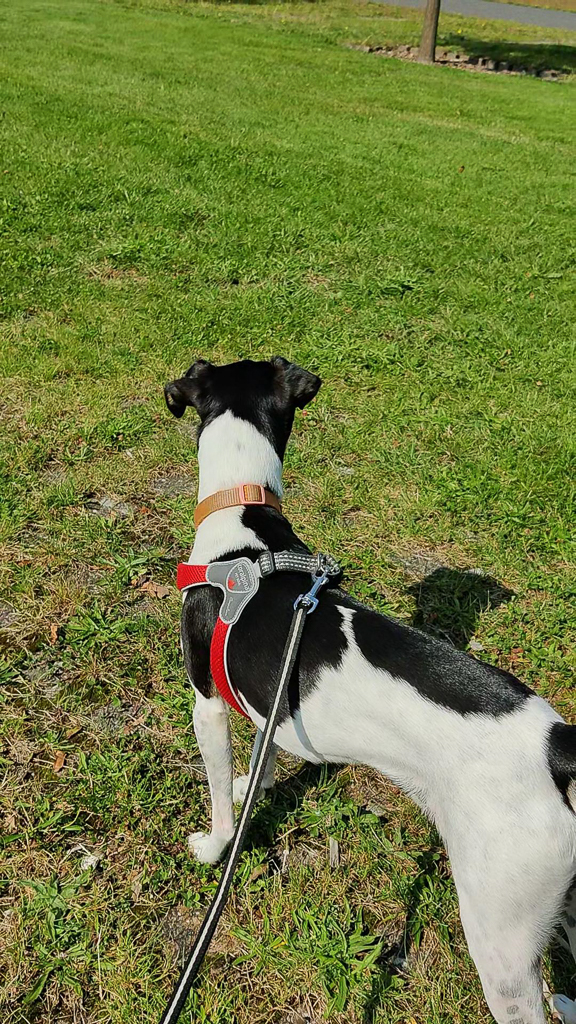Dog: (153, 345, 576, 1024)
